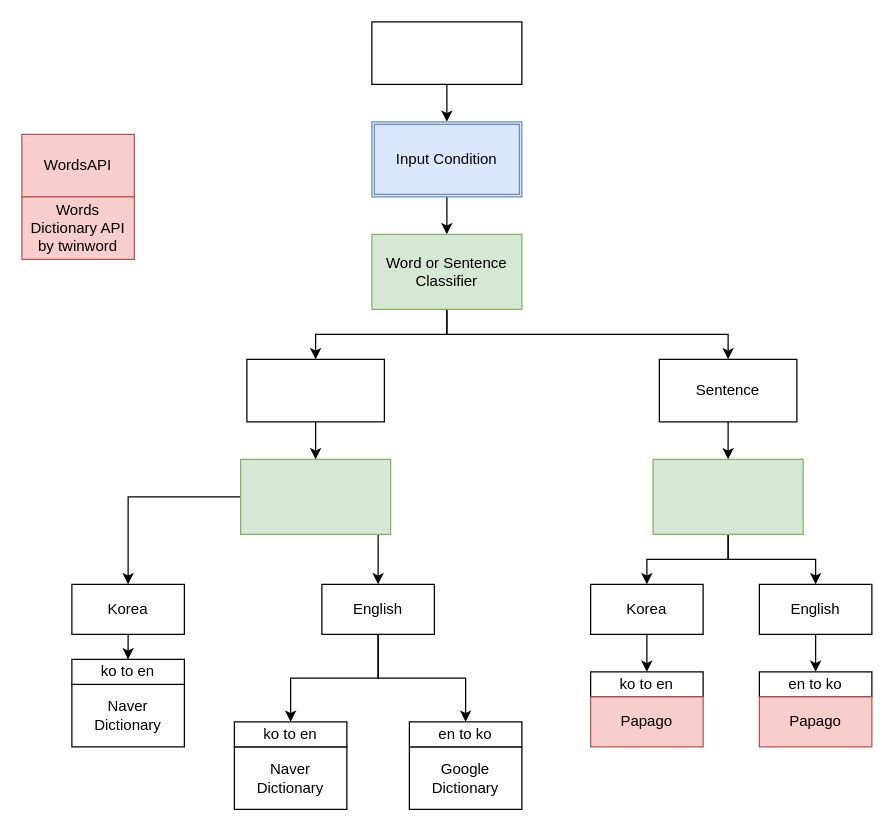
Image size: 894x831. Some labels were removed from this diagram. Each missing label, with the box of its shape:
Language Classifier for sentence: (652, 458, 803, 534)
Language Classifier for word: (239, 458, 391, 534)
Mouse Events: (371, 21, 522, 84)
Word: (246, 358, 384, 422)
